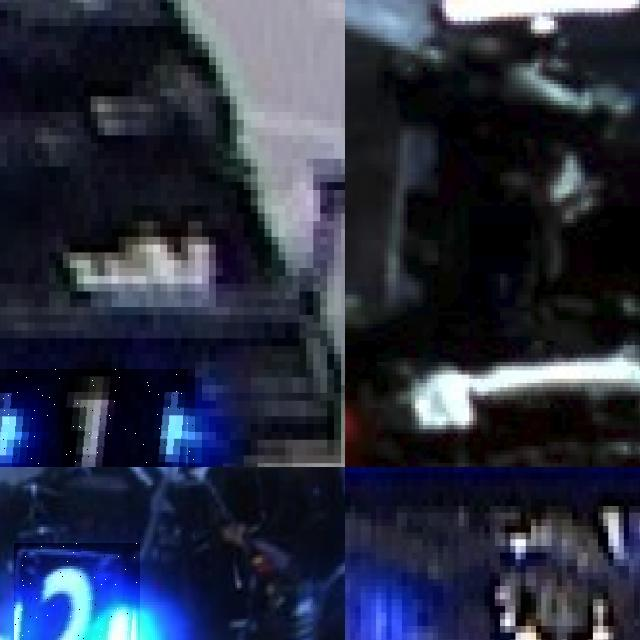B1: (0, 369, 194, 467)
B2: (13, 543, 140, 640)
